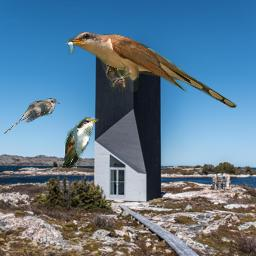Cuckoo: (63, 31, 237, 108), (4, 98, 60, 134), (62, 117, 99, 168)
